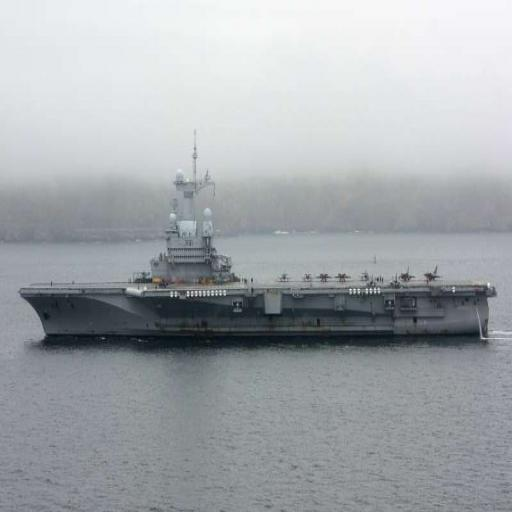Portanaves: (18, 129, 500, 347)
